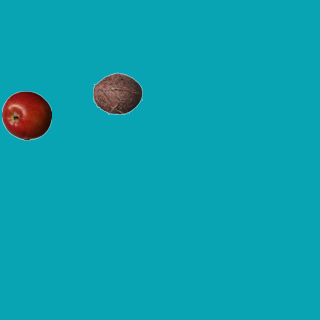Apple Braeburn: (1, 90, 51, 140)
Cocos: (92, 68, 142, 118)
